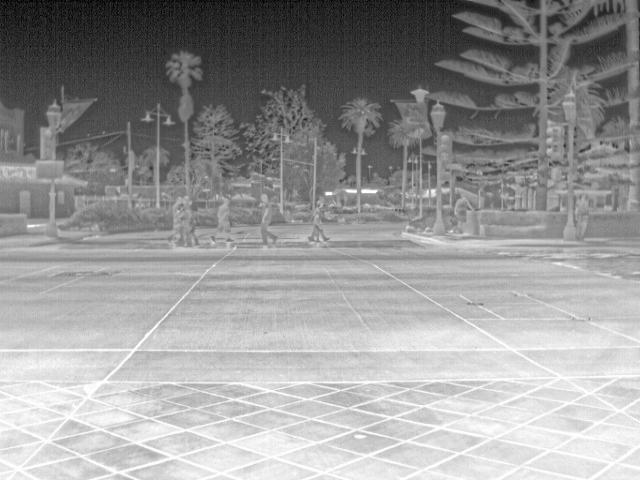person: (208, 196, 239, 245), (307, 204, 330, 244), (259, 200, 278, 246), (451, 192, 471, 234), (170, 195, 184, 243), (575, 194, 589, 241)
